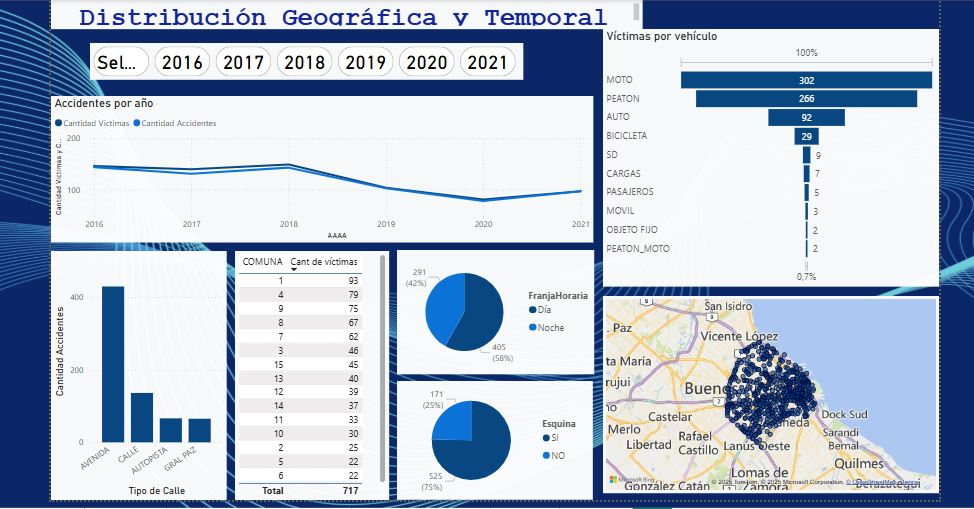

What the dashboard file says about the page in this screenshot:
{"tool":"powerbi","page":{"name":"Accidentes","canvas":[1280,720],"ordinal":0},"visuals":[{"type":"map","fields":{"Y":["HECHOS.pos y"],"X":["HECHOS.pos x"]},"box":[795.6,425.6,484.4,284.4],"z":0},{"type":"funnel","fields":{"Y":["Sum(HECHOS.N_VICTIMAS)"],"Category":["HECHOS.VICTIMA"]},"box":[795.6,42.2,484.4,371.1],"z":1000},{"type":"pieChart","fields":{"Category":["HECHOS.Esquina"],"Y":["CountNonNull(HECHOS.Esquina)"]},"box":[497.8,548.9,282.2,171.1],"z":2000},{"type":"pieChart","fields":{"Category":["HECHOS.FranjaHoraria"],"Y":["CountNonNull(HECHOS.FranjaHoraria)"]},"box":[497.8,360,284.4,178.9],"z":3000},{"type":"textbox","box":[0,0,852.2,42.2],"z":4000},{"type":"lineChart","title":"Accidentes por año","fields":{"Y":["Sum(HECHOS.N_VICTIMAS)","CountNonNull(HECHOS.ID)"],"Category":["HECHOS.AAAA"]},"box":[0,137.8,781.1,211.1],"z":5000},{"type":"advancedSlicerVisual","fields":{"Values":["dimCalendario.Año"]},"box":[55.6,62.2,624.4,53.3],"z":6000},{"type":"columnChart","title":"Tipo","fields":{"Y":["CountNonNull(HECHOS.ID)"],"Category":["HECHOS.TIPO_DE_CALLE"]},"box":[0,361.1,253.3,358.9],"z":7000},{"type":"tableEx","fields":{"Values":["HECHOS.COMUNA","Sum(HECHOS.N_VICTIMAS)"]},"box":[264.4,361.1,222.2,358.9],"z":8000}]}

Visuals, with their boxes in screenshot pixels (x1, y1, x2, y2):
map - HECHOS.pos y x HECHOS.pos x: 601,292,939,491
funnel - Sum(HECHOS.N_VICTIMAS) x HECHOS.VICTIMA: 601,24,939,284
pieChart - HECHOS.Esquina x CountNonNull(HECHOS.Esquina): 393,378,590,498
pieChart - HECHOS.FranjaHoraria x CountNonNull(HECHOS.FranjaHoraria): 393,246,592,371
textbox: 46,0,641,24
"Accidentes por año" lineChart: 46,91,591,239
advancedSlicerVisual - dimCalendario.Año: 84,38,521,76
"Tipo" columnChart: 46,247,223,498
tableEx - HECHOS.COMUNA x Sum(HECHOS.N_VICTIMAS): 230,247,385,498
